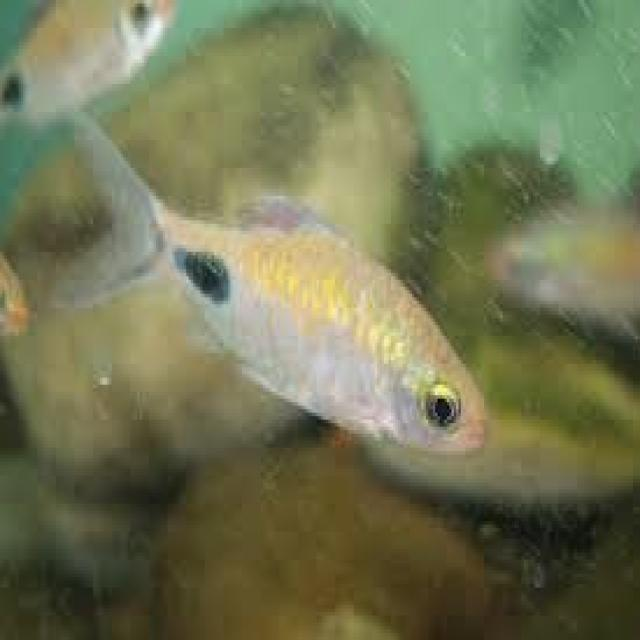Black-Spotted-Barb: (44, 67, 496, 508)
